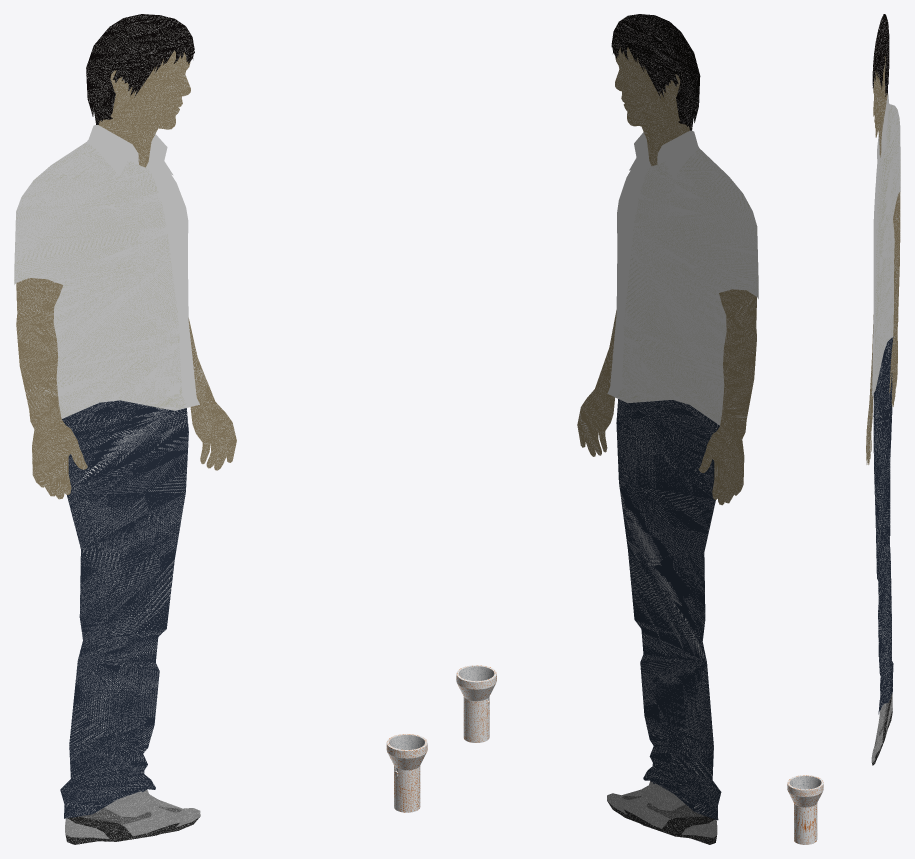
The picture shows the model from 3 angles, left to right: view 1: azimuth 30°, elevation 25°; view 2: azimuth 150°, elevation 25°; view 3: azimuth 270°, elevation 25°; orthographic projection. The views are drawn at different scales.
Parts seen in each view (by area): view 1: Sang (×10), SketchUp; view 2: Sang (×10), SketchUp; view 3: Sang (×8), SketchUp (×3).
Part boxes in pixels (bbox=[...]): Sang (×10): bbox=[14, 14, 236, 844]; SketchUp: bbox=[386, 734, 427, 812]; Sang (×10): bbox=[577, 14, 758, 844]; SketchUp: bbox=[456, 665, 496, 742]; Sang (×8): bbox=[866, 14, 900, 762]; SketchUp (×3): bbox=[787, 775, 823, 844].
Bounding box in the file's own units: 31.39 × 9.74 × 69.24.
